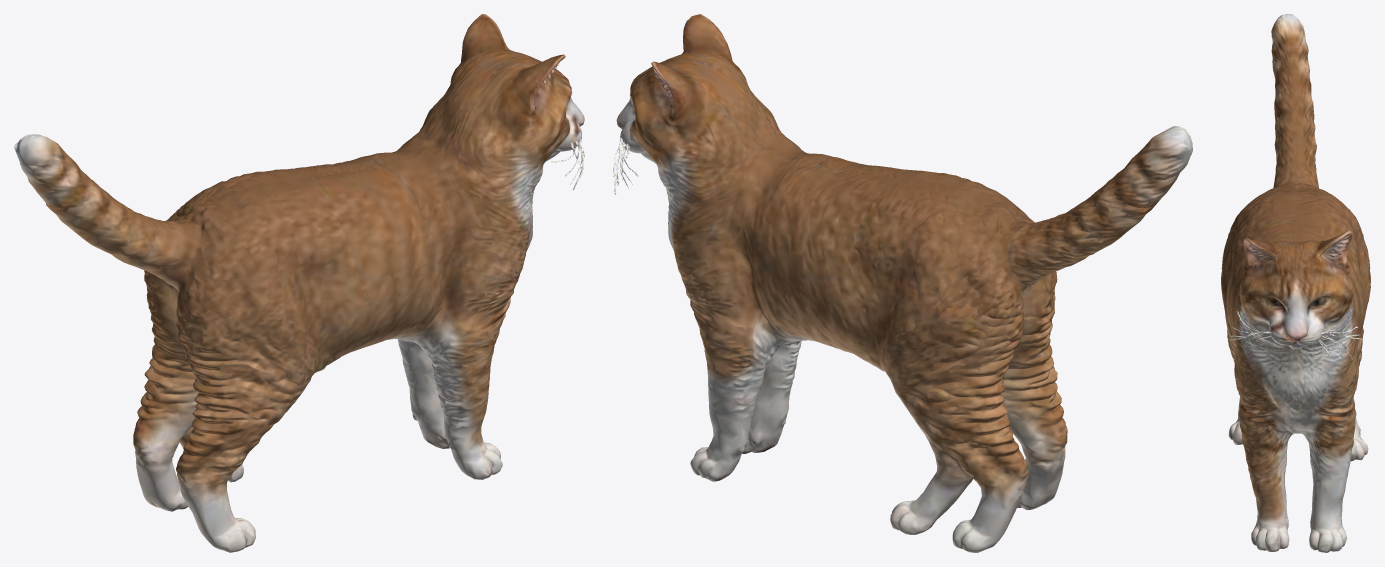
Rendered from KOTECHAN.glb.
The picture shows the model from 3 angles, left to right: view 1: azimuth 30°, elevation 25°; view 2: azimuth 150°, elevation 25°; view 3: azimuth 270°, elevation 25°; orthographic projection. The views are drawn at different scales.
Parts seen in each view (by area): view 1: tripo_node_735d46e7-e4b2-4c5b-8dec-31e4eb69c3b8; view 2: tripo_node_735d46e7-e4b2-4c5b-8dec-31e4eb69c3b8; view 3: tripo_node_735d46e7-e4b2-4c5b-8dec-31e4eb69c3b8.
Boxes of the visible parts, left/top/right/bottom form: tripo_node_735d46e7-e4b2-4c5b-8dec-31e4eb69c3b8: left=14, top=14, right=584, bottom=552; tripo_node_735d46e7-e4b2-4c5b-8dec-31e4eb69c3b8: left=613, top=14, right=1192, bottom=552; tripo_node_735d46e7-e4b2-4c5b-8dec-31e4eb69c3b8: left=1221, top=14, right=1370, bottom=552.
Size of the model in its own units: 1.37 by 0.9993 by 0.3806.
Materials: 1 (1 with a texture image).
